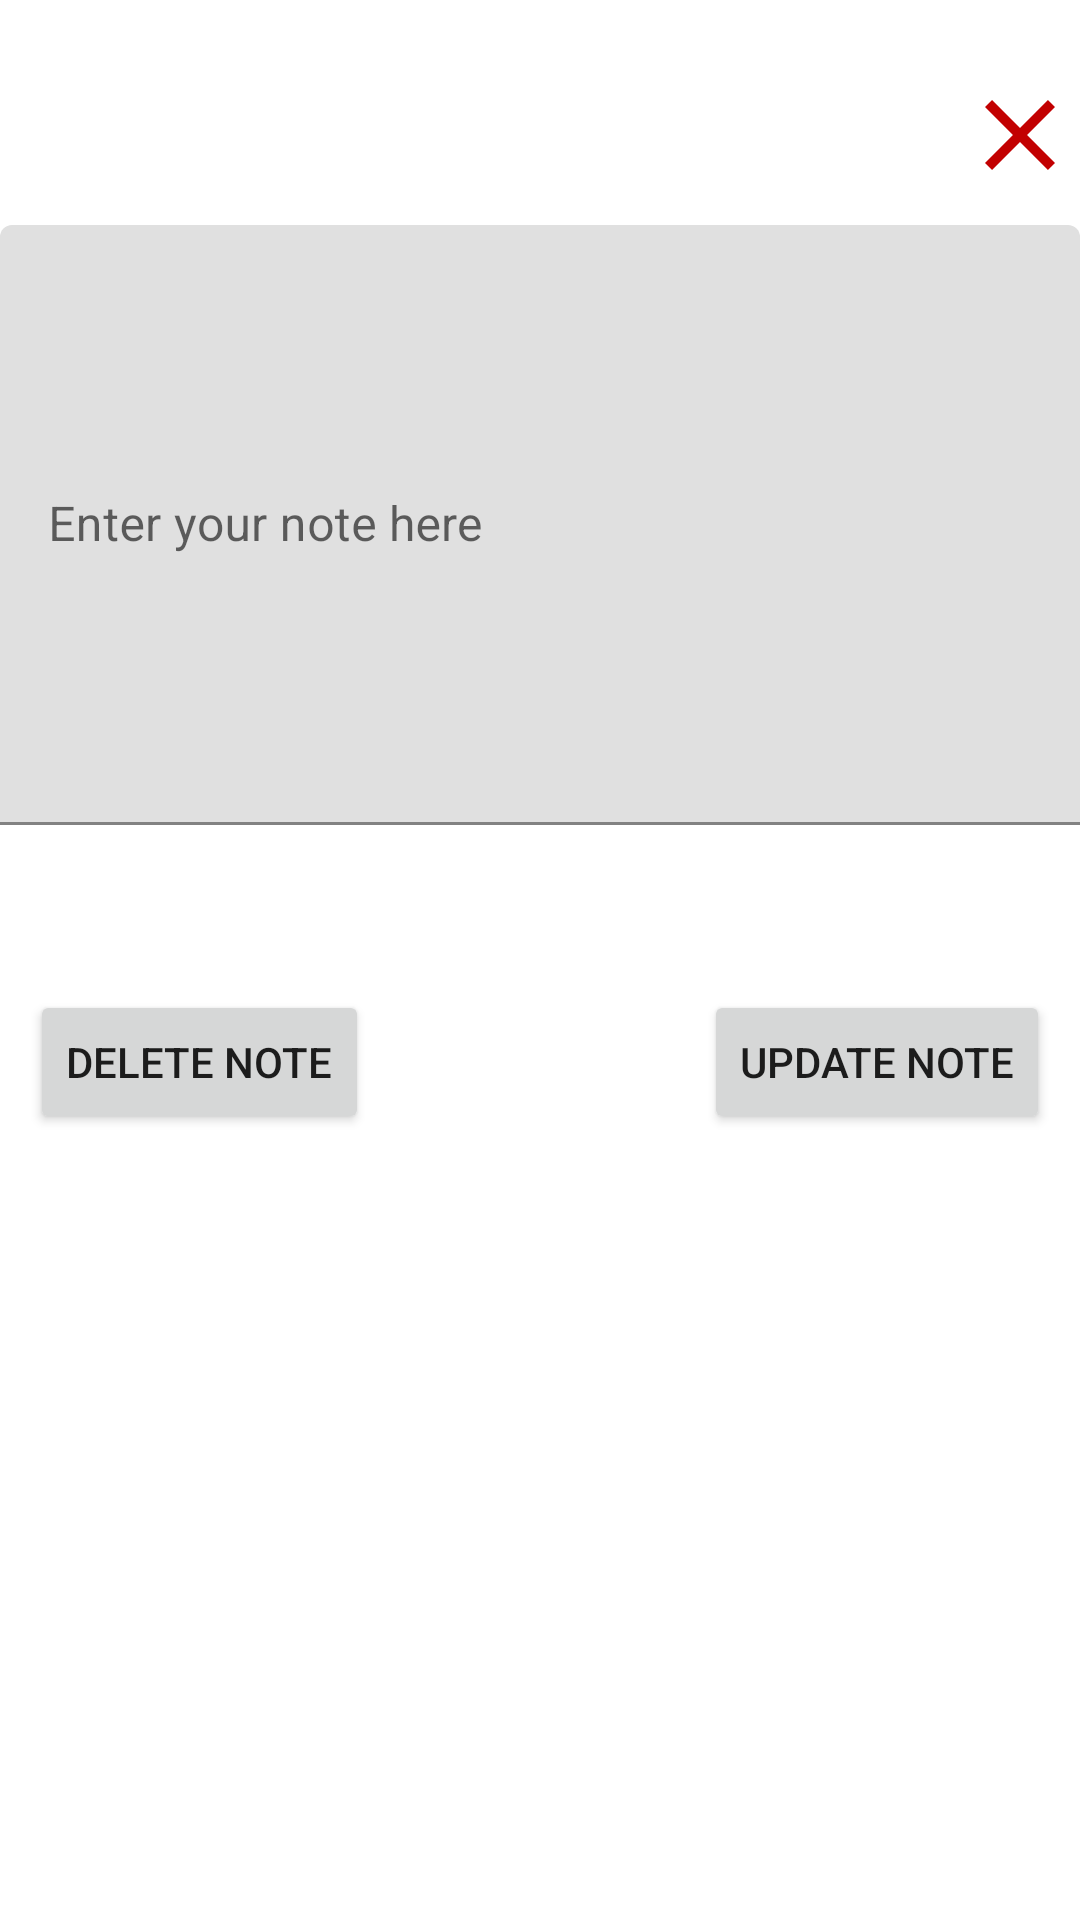

Point at icon controls on the screen. Image size 1080px×1920px, points as (x=x, y=y).
close sign: (x=1020, y=135)
